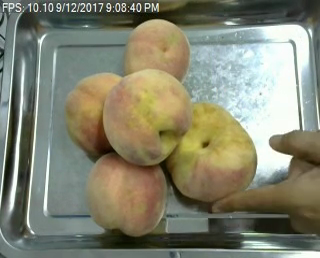Peach: (164, 102, 254, 203), (100, 72, 189, 166), (87, 152, 168, 236), (123, 18, 191, 87), (67, 72, 119, 155)
